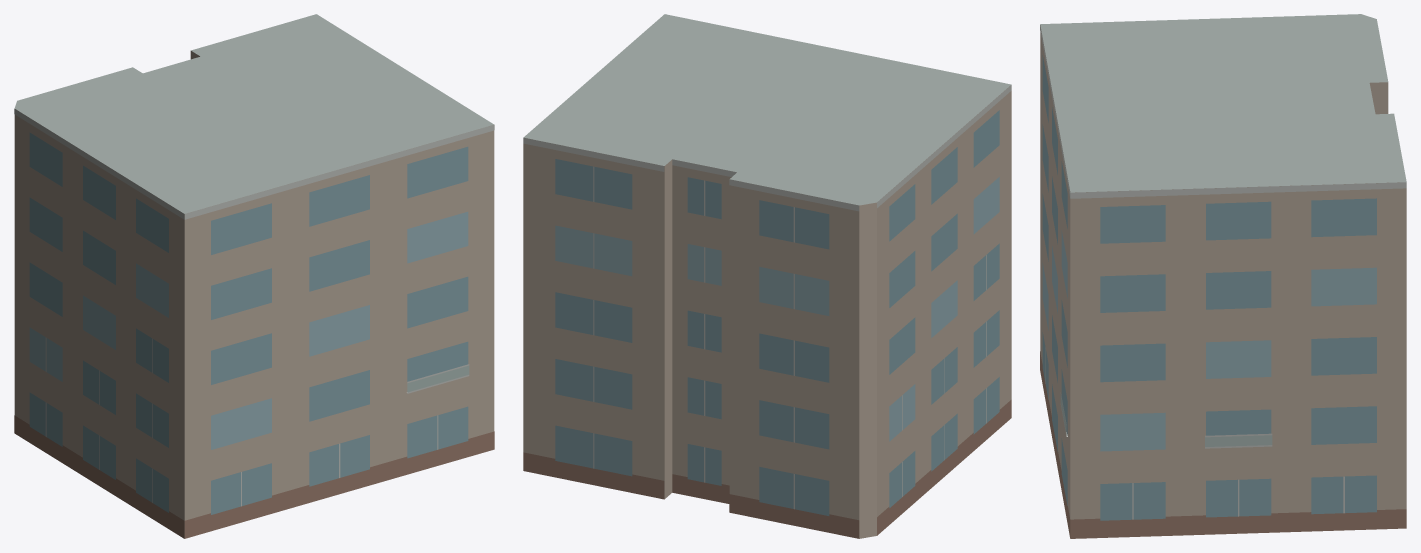
Rendered from survey-upis-32613506.glb.
3 renders of one model, left to right at view 1: azimuth 30°, elevation 25°; view 2: azimuth 150°, elevation 25°; view 3: azimuth 270°, elevation 25°, orthographic. The views are drawn at different scales.
Visible parts, largest first — view 1: survey-upis-32613506.tmp; view 2: survey-upis-32613506.tmp; view 3: survey-upis-32613506.tmp.
Boxes of the visible parts, <box> form: survey-upis-32613506.tmp: <box>14,14,494,538</box>; survey-upis-32613506.tmp: <box>523,14,1011,538</box>; survey-upis-32613506.tmp: <box>1040,14,1406,538</box>.
Size of the model in its own units: 15.05 by 13.6 by 13.06.
